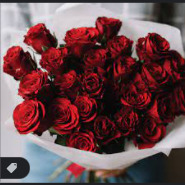RedRose: (8, 101, 55, 135), (61, 23, 101, 56), (133, 28, 170, 62), (95, 14, 126, 42)
